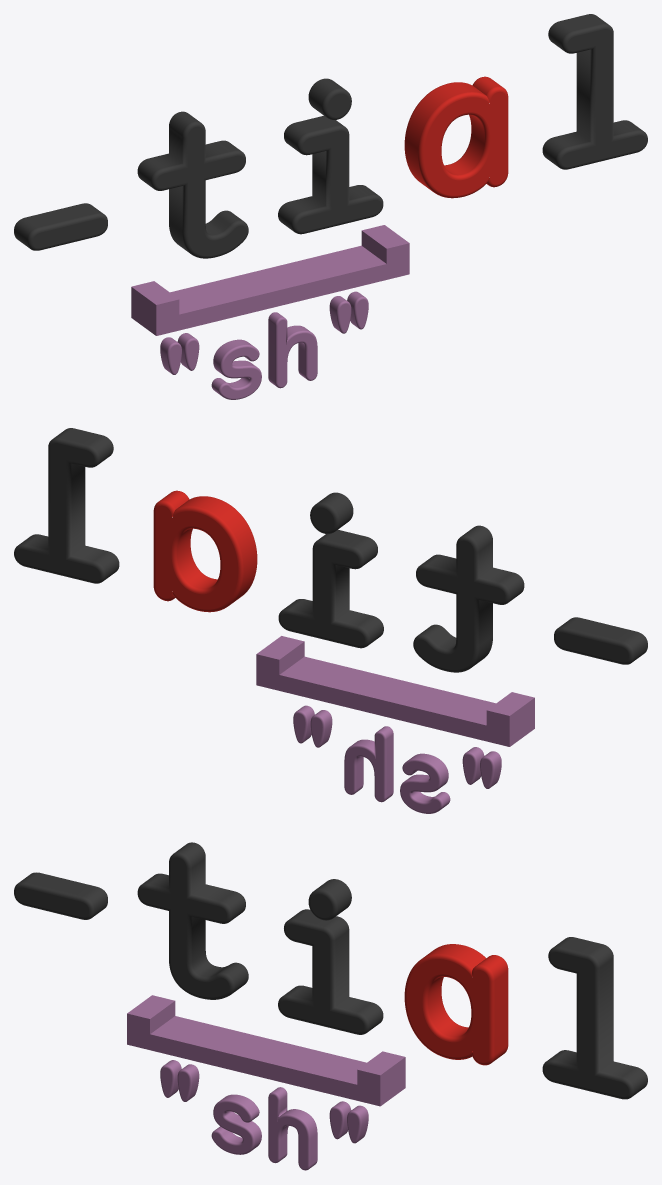
The model's file is -tial.gltf.
The picture shows the model from 3 angles, top to bottom: view 1: azimuth 30°, elevation 25°; view 2: azimuth 150°, elevation 25°; view 3: azimuth 330°, elevation 25°; orthographic projection.
Parts seen in each view (by area): view 1: Text, Cube.001, Text.002, Text.003, Text.001; view 2: Text, Cube.001, Text.002, Text.003, Text.001; view 3: Text, Cube.001, Text.002, Text.003, Text.001.
Part boxes in pixels (left/top/right/bottom): Text: left=278, top=14, right=647, bottom=234; Cube.001: left=131, top=225, right=409, bottom=335; Text.002: left=14, top=111, right=248, bottom=258; Text.003: left=404, top=76, right=508, bottom=198; Text.001: left=160, top=291, right=368, bottom=399; Text: left=14, top=428, right=383, bottom=648; Cube.001: left=256, top=636, right=534, bottom=746; Text.002: left=413, top=525, right=647, bottom=672; Text.003: left=153, top=490, right=257, bottom=612; Text.001: left=293, top=705, right=501, bottom=813; Text: left=278, top=879, right=647, bottom=1099; Cube.001: left=127, top=995, right=405, bottom=1106; Text.002: left=14, top=842, right=248, bottom=999; Text.003: left=404, top=944, right=508, bottom=1065; Text.001: left=160, top=1060, right=368, bottom=1170.
Size of the model in its own units: 2.72 by 1.22 by 0.1906.
